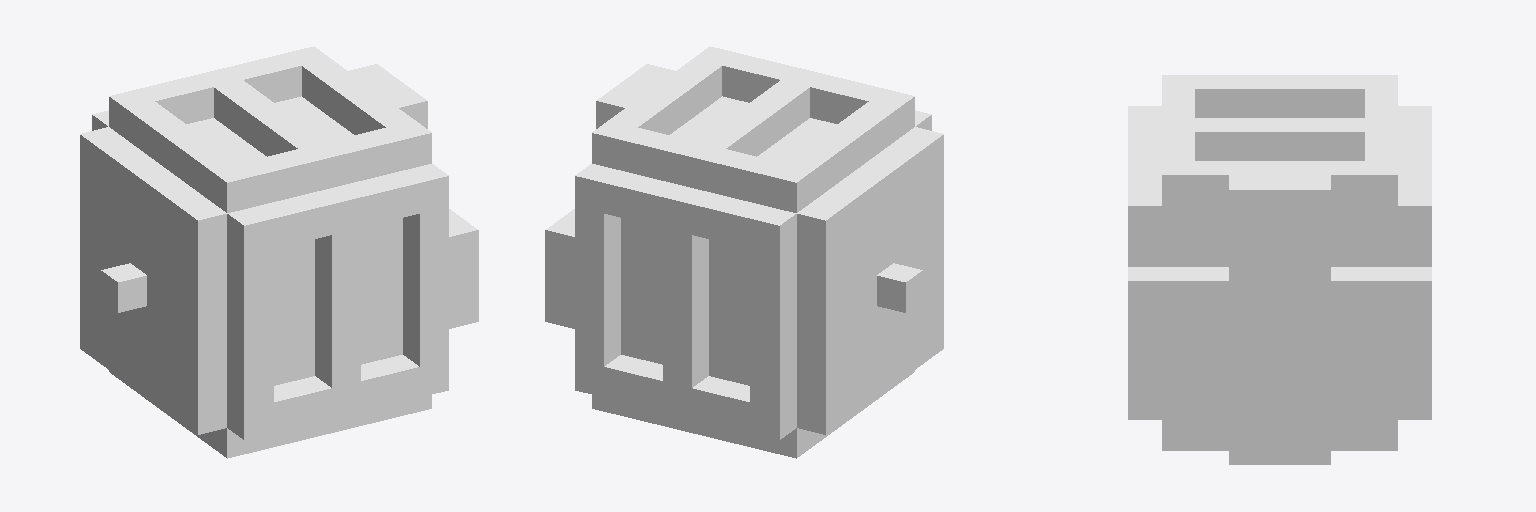
File: WeaponMagazine#1.obj
The picture shows the model from 3 angles: view 1: azimuth 30°, elevation 25°; view 2: azimuth 150°, elevation 25°; view 3: azimuth 270°, elevation 25°; orthographic projection.
Visible parts, largest first — view 1: object 1; view 2: object 1; view 3: object 1.
Part boxes in pixels (x1,y1,x2,y2): object 1: (80,46,478,458); object 1: (545,46,943,458); object 1: (1128,75,1431,464).
Bounding box in the file's own units: 1 × 0.9 × 0.9.